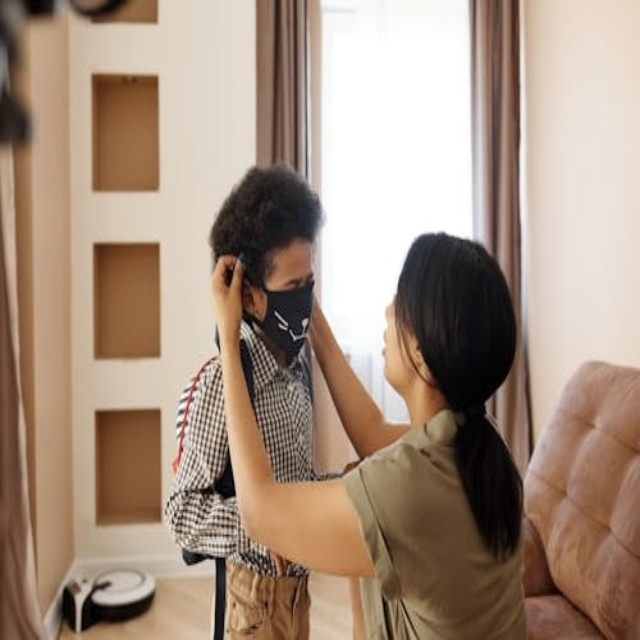Mascara: (239, 258, 314, 362)
